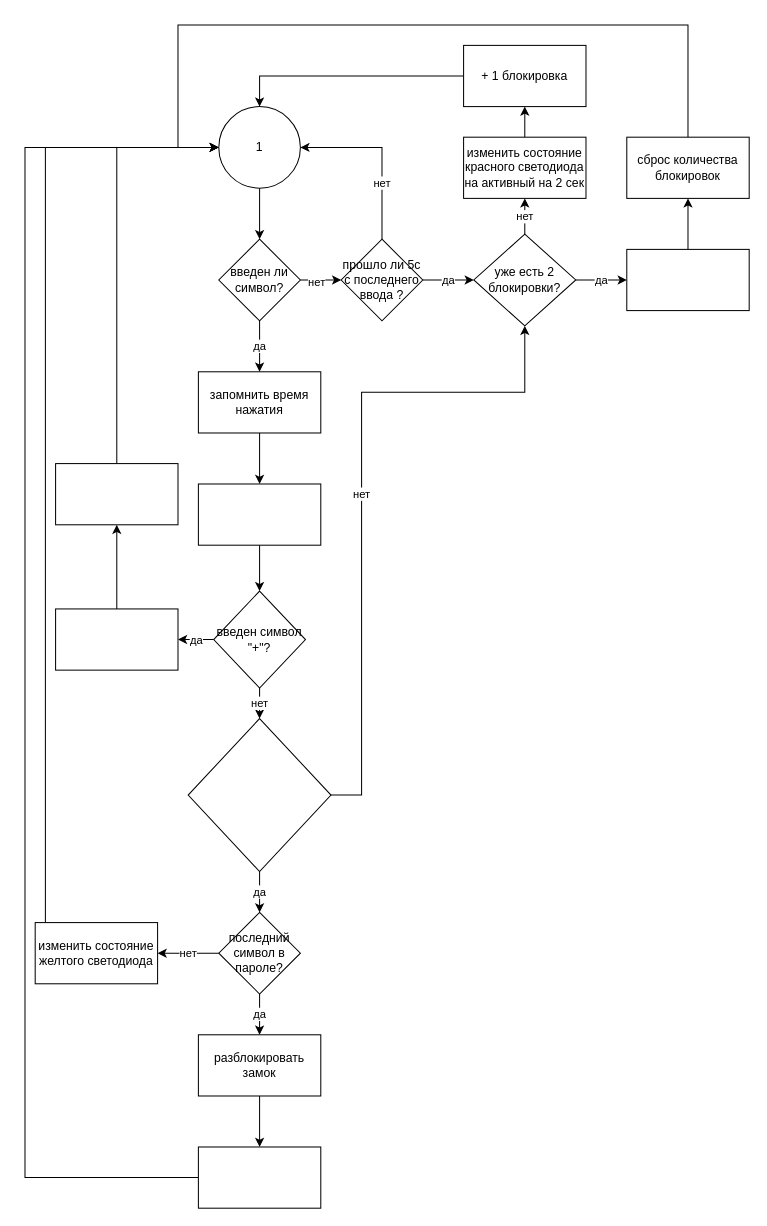
This 767x1226 diagram has some shape labels left out. Here are the shapes that lost their labels. From the top down, the centre of each, then its label:
(x=687, y=279): мигать красным светодиодом
(x=116, y=494): сохранить новый пароль
(x=259, y=514): запомнить время отжатия
(x=116, y=639): ввод последовательности
(x=259, y=795): соответствует ли введенный символ необходимому по паролю
(x=259, y=1177): изменить состояние зеленого светодиода
